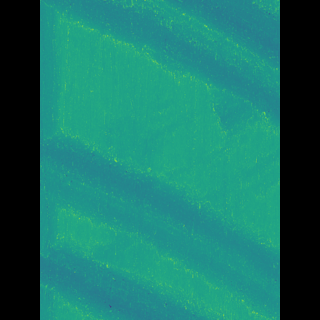Loch: (70, 130, 249, 320), (72, 0, 249, 126)
